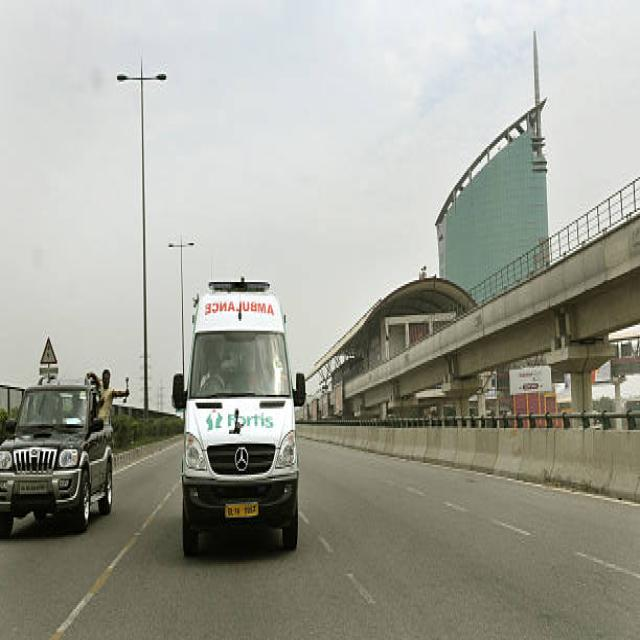ambulance: (195, 273, 280, 355), (203, 401, 284, 457)
